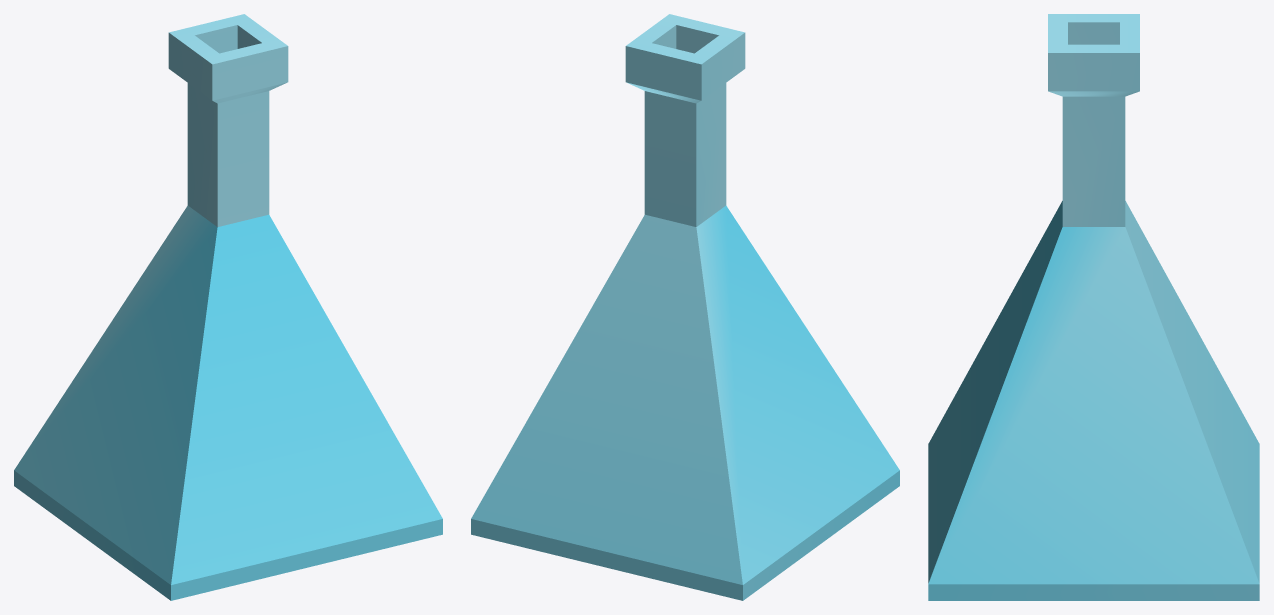
File: PROP_027_Bottle.fbx
The picture shows the model from 3 angles, left to right: view 1: azimuth 30°, elevation 25°; view 2: azimuth 150°, elevation 25°; view 3: azimuth 270°, elevation 25°; orthographic projection. The views are drawn at different scales.
Visible parts, largest first — view 1: PROP_027_Bottle; view 2: PROP_027_Bottle; view 3: PROP_027_Bottle.
Boxes of the visible parts, <box> form: PROP_027_Bottle: <box>14,14,442,600</box>; PROP_027_Bottle: <box>471,14,899,600</box>; PROP_027_Bottle: <box>928,14,1259,600</box>.
Bounding box in the file's own units: 3.94 × 6.52 × 3.94.
